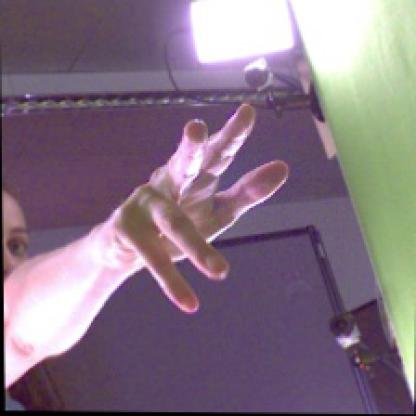Hand: (95, 103, 289, 314)
